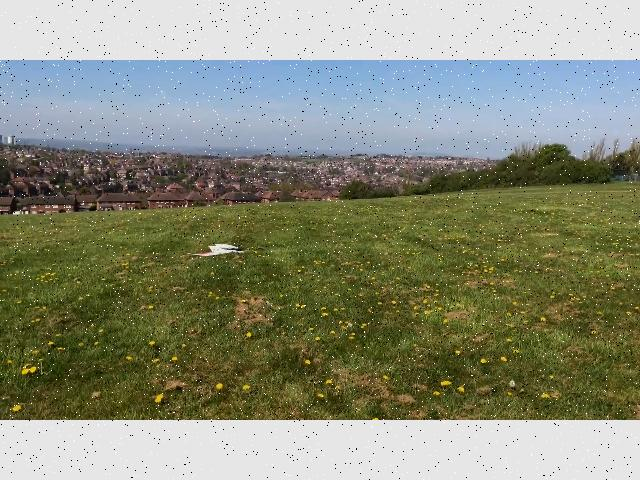Anti-Drone: (177, 224, 255, 268)
